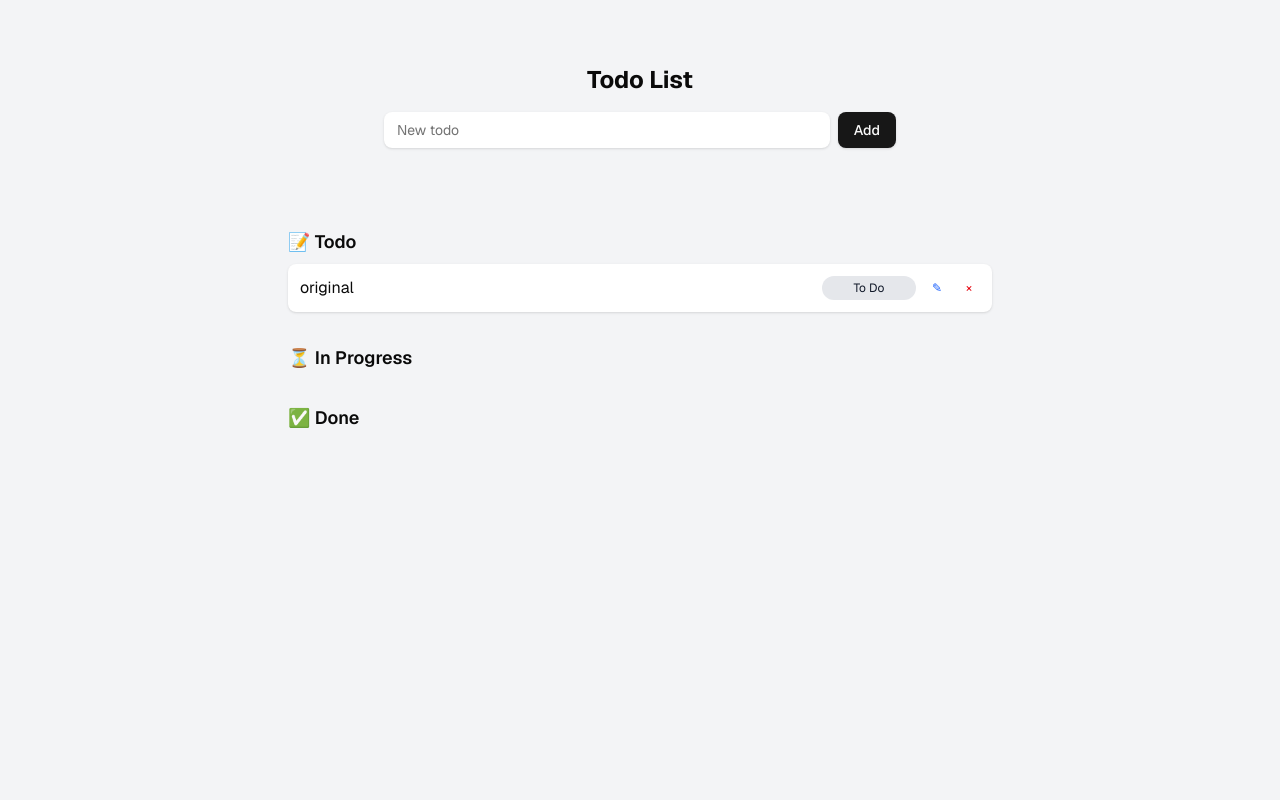
Home page data flow › rolls back text on edit failure and shows toast
The image size is (1280, 800).
Check: the text "original" is shown, box x1=300 y1=276 x2=354 y2=300
Click the button named "Edit todo" at (937, 288), box x1=924 y1=276 x2=950 y2=300
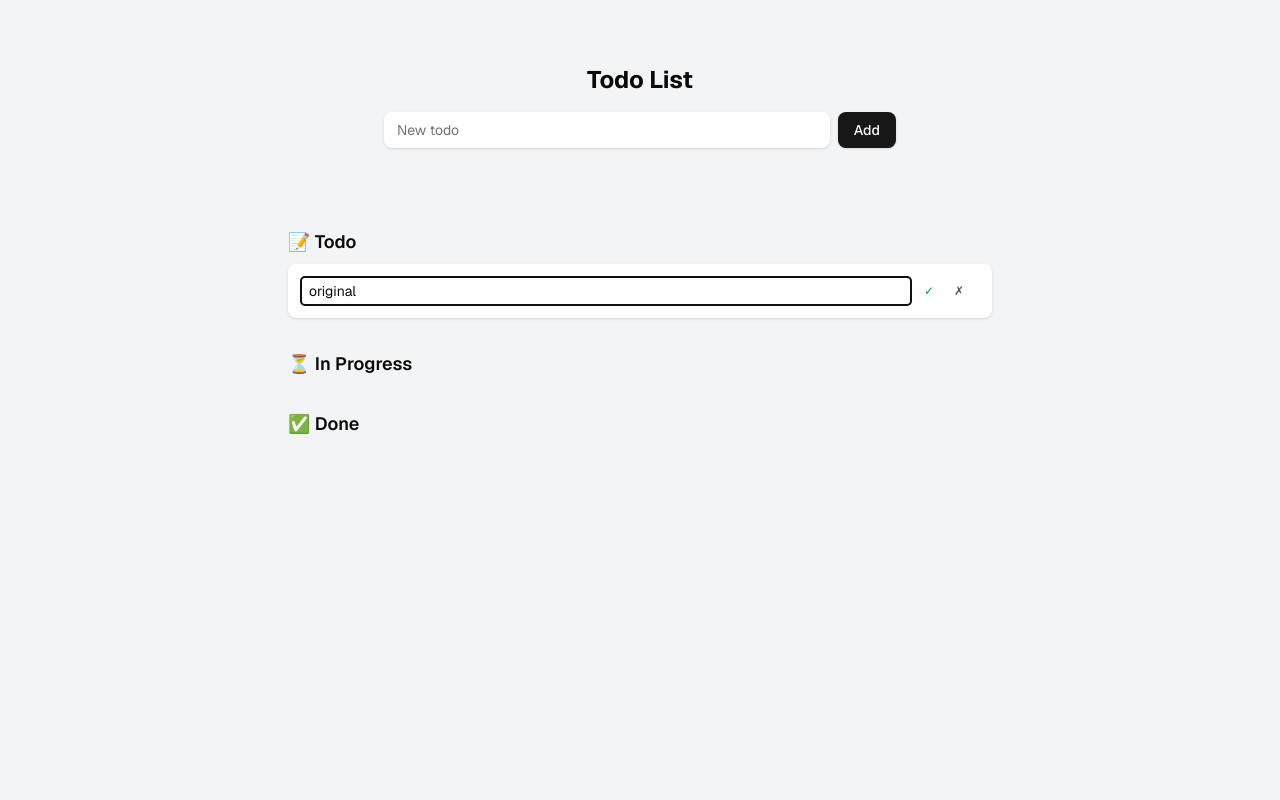
Replace the text in the field named "Edit todo text" with "bad edit" at (606, 291), box x1=300 y1=276 x2=912 y2=306
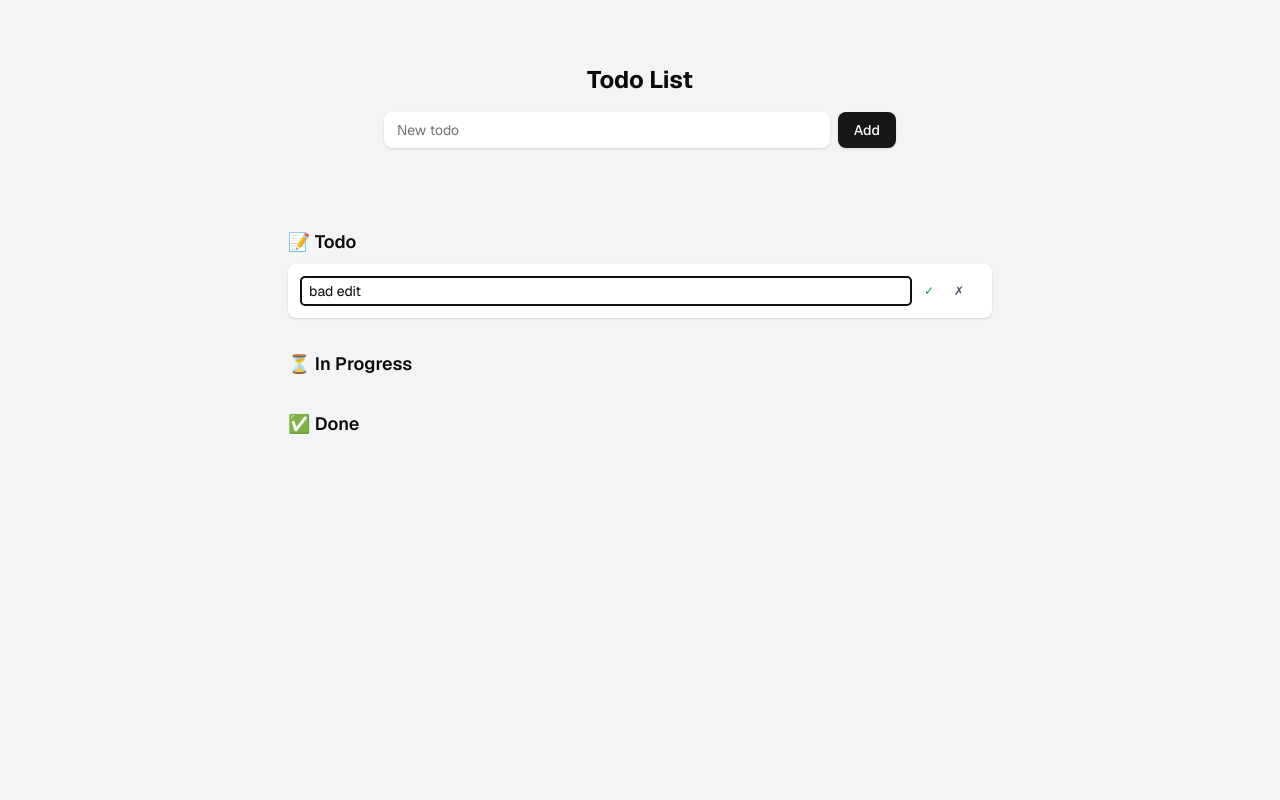
Press Enter in the field named "Edit todo text", box x1=300 y1=276 x2=912 y2=306
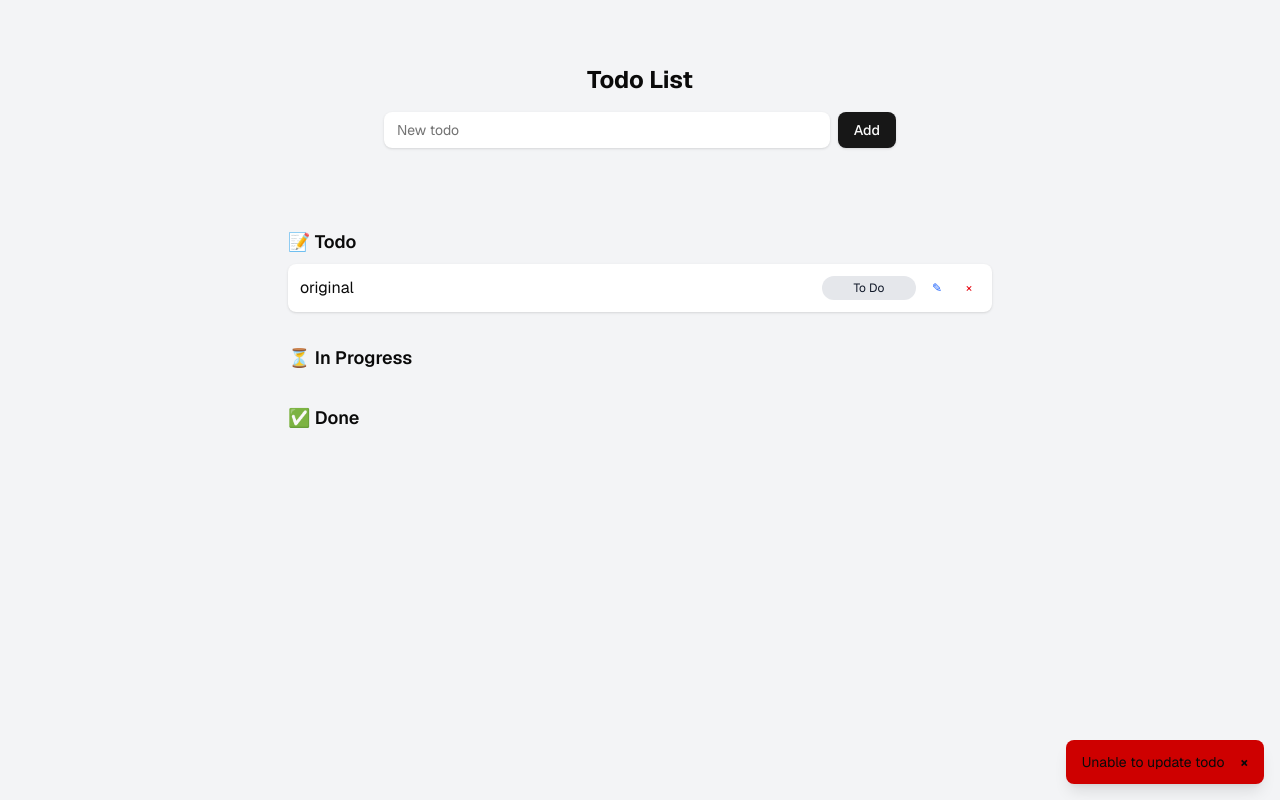
Check: the text "original" is shown, box x1=300 y1=276 x2=354 y2=300
Check: the message "Unable to update todo ×" is shown, box x1=1066 y1=740 x2=1264 y2=784
Check: the text "Unable to update todo" is shown, box x1=1082 y1=752 x2=1224 y2=772
